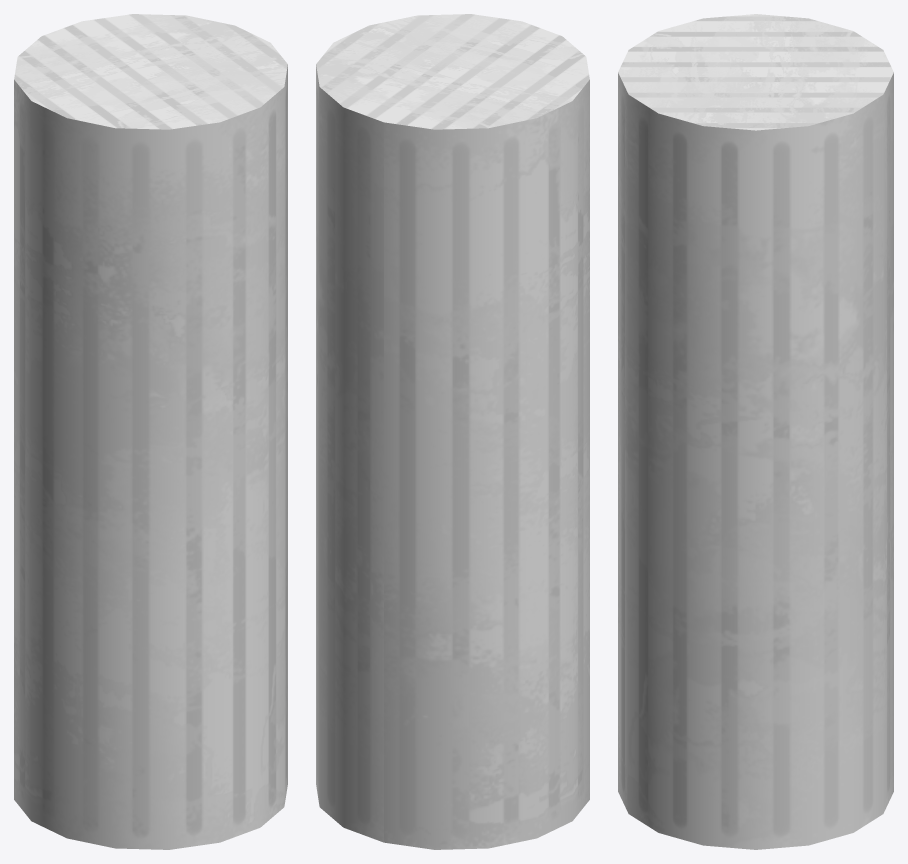
File: GreekPilar.fbx
3 views of the same model, side by side, from view 1: azimuth 30°, elevation 25°; view 2: azimuth 150°, elevation 25°; view 3: azimuth 270°, elevation 25° (orthographic).
Parts seen in each view (by area): view 1: Cylinder.011; view 2: Cylinder.011; view 3: Cylinder.011.
Boxes of the visible parts, box(x1,y1,x2,y2) form: Cylinder.011: box(14, 14, 287, 849); Cylinder.011: box(316, 14, 589, 849); Cylinder.011: box(618, 14, 893, 849).
Size of the model in its own units: 338 by 974 by 338.
1 material, 1 textured.
